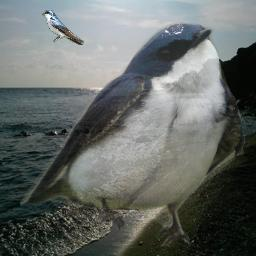Swallow: (20, 22, 246, 248), (42, 10, 84, 45)
